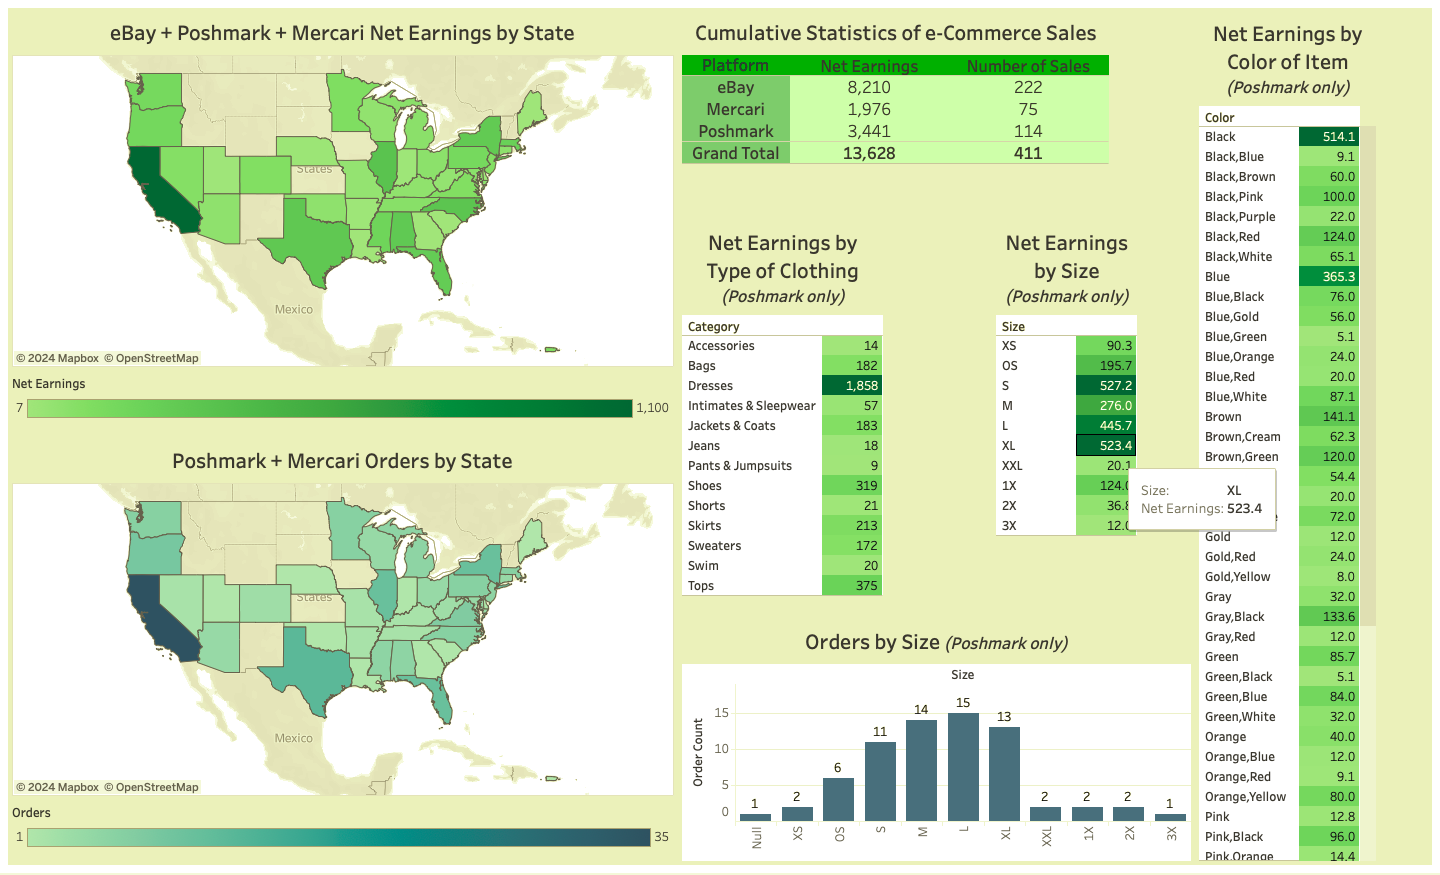

The page's visual inventory and layout, read from the dashboard file:
{"tool":"tableau","page":{"name":"Dashboard 1","canvas":[1000,1000],"units":"permille","ordinal":0},"visuals":[{"type":"worksheet","title":"Sheet 9","mark":"Automatic","box":[6.5,11.1,464.6,414.4]},{"type":"worksheet","title":"Sheet 10","mark":"Automatic","rows":["Platform"],"box":[471.1,11.1,358,239]},{"type":"worksheet","title":"Sheet 6","mark":"Square","rows":["Color"],"box":[829.1,11.1,164.4,977.9]},{"type":"worksheet","title":"Sheet 4","mark":"Square","rows":["Category"],"box":[471.1,250,217.2,455.8]},{"type":"worksheet","title":"Sheet 5","mark":"Automatic","rows":["Size"],"box":[688.4,250,140.7,455.8]},{"type":"legend","title":"Sheet 9","param":"[federated.0j6pflz003n10o12wbx3k1gafid7].[sum:Net Seller Proceeds:qk]","box":[6.5,425.4,464.6,74.6]},{"type":"worksheet","title":"Sheet 8","mark":"Automatic","box":[6.5,500,464.6,414.4]},{"type":"worksheet","title":"Sheet 2","mark":"Automatic","rows":["file_A1C744DB1A454D4DA7906597F7A9AD7C"],"cols":["Size"],"box":[471.1,705.8,358,283.2]},{"type":"legend","title":"Sheet 8","param":"[federated.0j6pflz003n10o12wbx3k1gafid7].[__tableau_internal_object_id__].[cnt:S","box":[6.5,914.4,464.6,74.6]}]}

Visuals, with their boxes on the dashboard's canvas, which has no fixed pixel size, in thousandths of its width and height (x1, y1, x2, y2). These are canvas units, not pixel positions in the 1440x875 screenshot, which may show the page scaled, cropped or inside an application window:
"Sheet 9" worksheet: {"left": 6, "top": 11, "right": 471, "bottom": 426}
"Sheet 10" worksheet: {"left": 471, "top": 11, "right": 829, "bottom": 250}
"Sheet 6" worksheet (Square marks): {"left": 829, "top": 11, "right": 994, "bottom": 989}
"Sheet 4" worksheet (Square marks): {"left": 471, "top": 250, "right": 688, "bottom": 706}
"Sheet 5" worksheet: {"left": 688, "top": 250, "right": 829, "bottom": 706}
"Sheet 9" legend: {"left": 6, "top": 425, "right": 471, "bottom": 500}
"Sheet 8" worksheet: {"left": 6, "top": 500, "right": 471, "bottom": 914}
"Sheet 2" worksheet: {"left": 471, "top": 706, "right": 829, "bottom": 989}
"Sheet 8" legend: {"left": 6, "top": 914, "right": 471, "bottom": 989}
